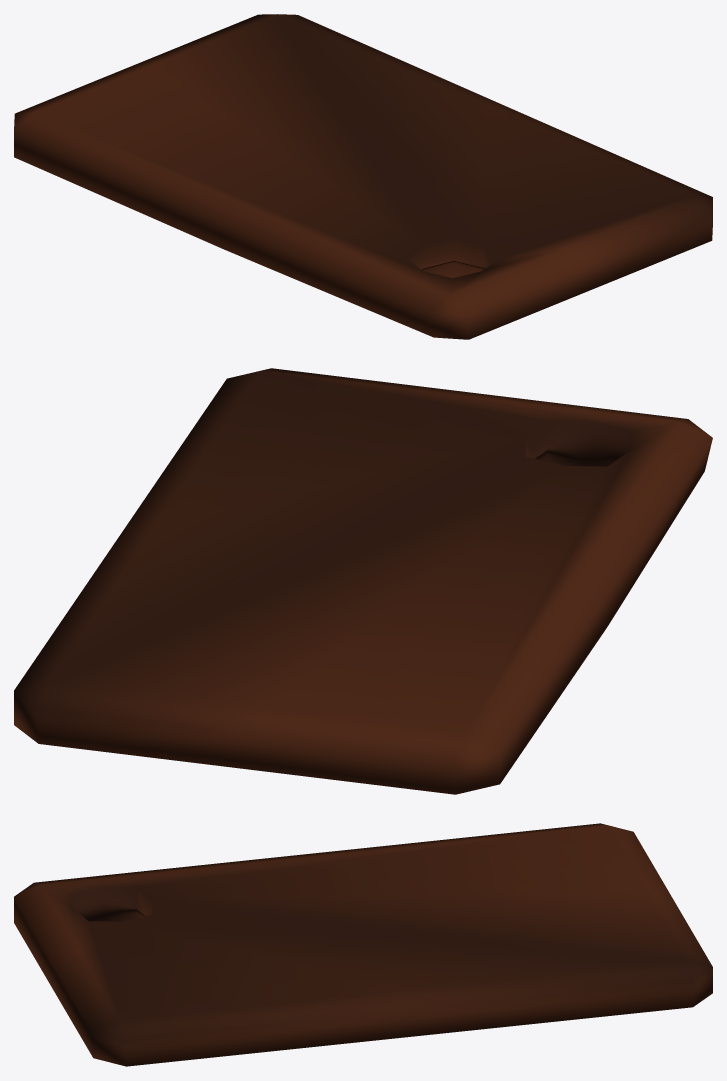
Rendered from CuttingBoard.fbx.
3 renders of one model, top to bottom at view 1: azimuth 30°, elevation 25°; view 2: azimuth 150°, elevation 25°; view 3: azimuth 270°, elevation 25°, orthographic. The views are drawn at different scales.
Parts seen in each view (by area): view 1: pCube4; view 2: pCube4; view 3: pCube4.
Boxes of the visible parts, <box> form: pCube4: <box>14,14,712,339</box>; pCube4: <box>14,368,712,794</box>; pCube4: <box>14,823,712,1066</box>.
Size of the model in its own units: 5.15 by 0.4839 by 7.01.
